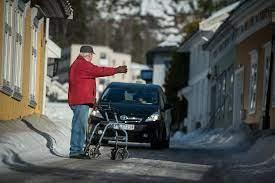walking_frame: (68, 46, 130, 159)
